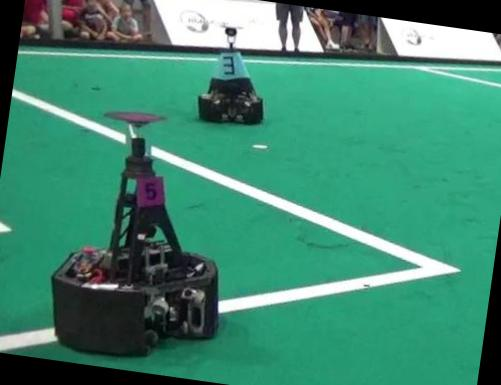robot: (51, 110, 218, 355), (198, 26, 263, 123)
